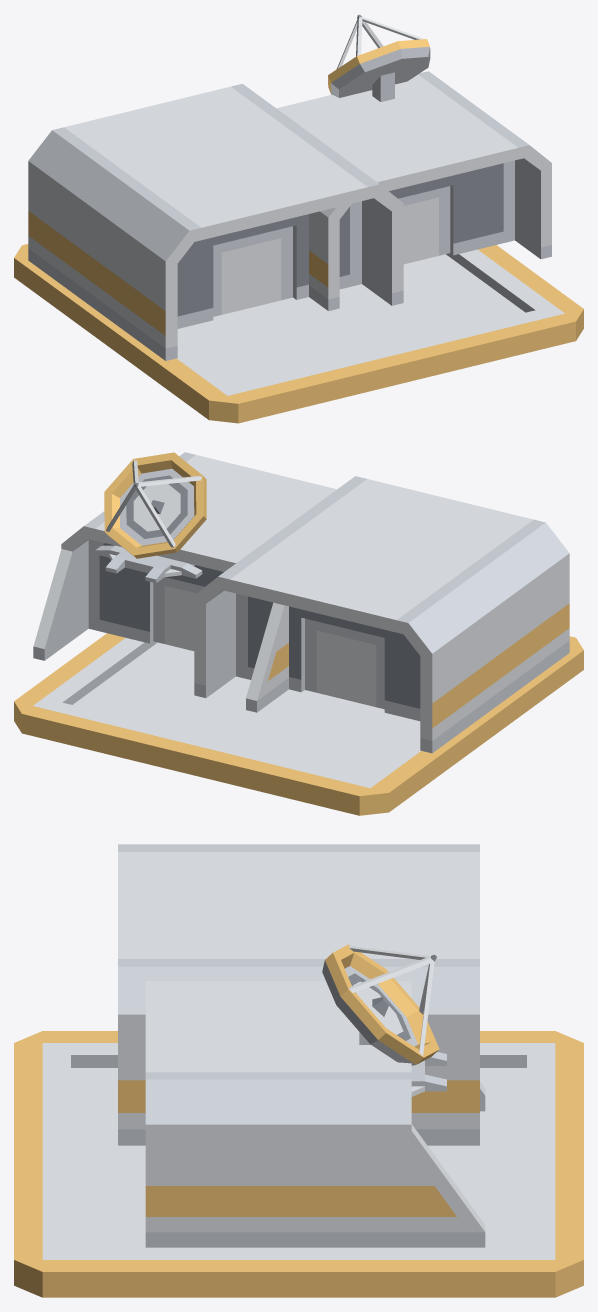
The model's file is building_command_hub_upgraded.glb.
3 renders of one model, top to bottom at view 1: azimuth 30°, elevation 25°; view 2: azimuth 150°, elevation 25°; view 3: azimuth 270°, elevation 25°, orthographic. The views are drawn at different scales.
Visible parts, largest first — view 1: hangar_smallA.001, platform_large.004, hangar_smallB.001, gate.007, gate.008, satelliteDish_detailed.001; view 2: hangar_smallA.001, platform_large.004, hangar_smallB.001, gate.006, satelliteDish_detailed.001, gate.009; view 3: platform_large.004, hangar_smallB.001, hangar_smallA.001, satelliteDish_detailed.001.
Part boxes in pixels (x1=…): hangar_smallA.001: x1=28, y1=83, x2=403, y2=360; platform_large.004: x1=14, y1=244, x2=583, y2=423; hangar_smallB.001: x1=276, y1=71, x2=551, y2=310; gate.007: x1=177, y1=201, x2=361, y2=328; gate.008: x1=389, y1=160, x2=514, y2=264; satelliteDish_detailed.001: x1=328, y1=14, x2=430, y2=101; hangar_smallA.001: x1=194, y1=476, x2=569, y2=753; platform_large.004: x1=14, y1=633, x2=583, y2=815; hangar_smallB.001: x1=33, y1=452, x2=336, y2=712; gate.006: x1=236, y1=593, x2=420, y2=721; satelliteDish_detailed.001: x1=95, y1=452, x2=206, y2=582; gate.009: x1=88, y1=539, x2=223, y2=650; platform_large.004: x1=14, y1=1031, x2=583, y2=1297; hangar_smallB.001: x1=145, y1=981, x2=485, y2=1247; hangar_smallA.001: x1=118, y1=844, x2=479, y2=1145; satelliteDish_detailed.001: x1=322, y1=944, x2=446, y2=1096.
Bounding box in the file's own units: 5.08 × 2.75 × 4.8.
